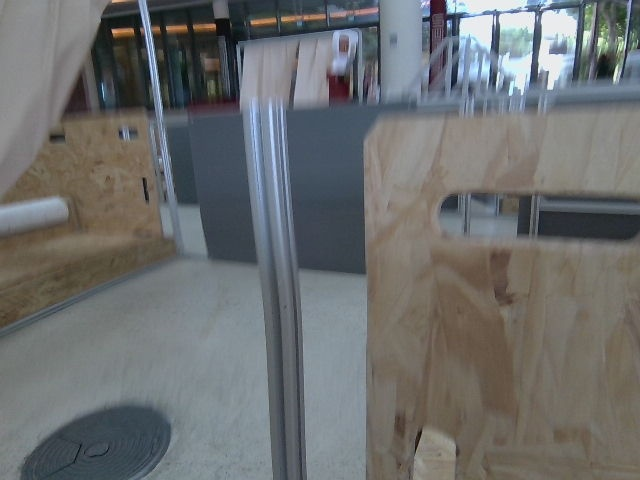curtain: (230, 19, 371, 96), (0, 0, 77, 130)
